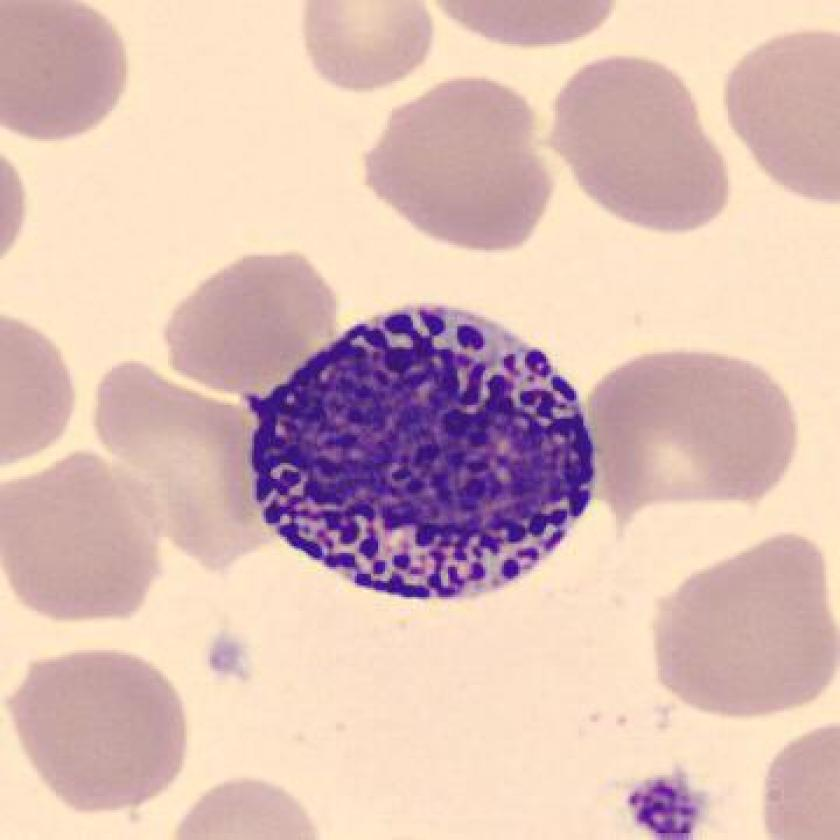basophil: (244, 295, 608, 619)
